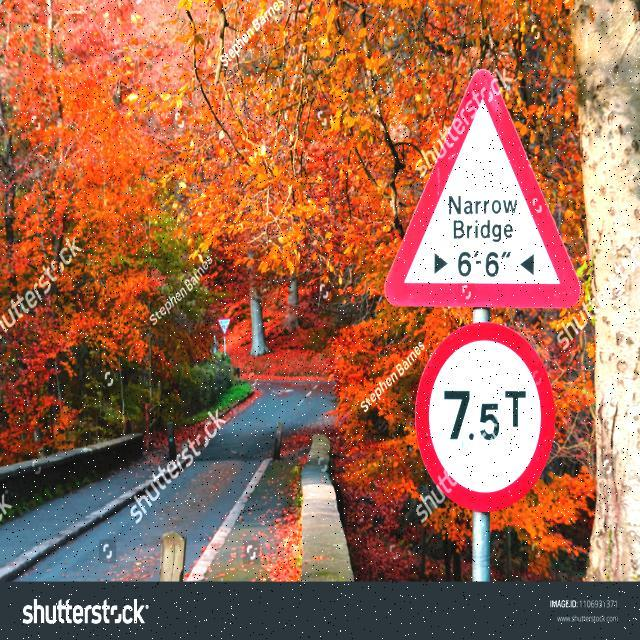Traffic sign: (376, 65, 584, 518)
